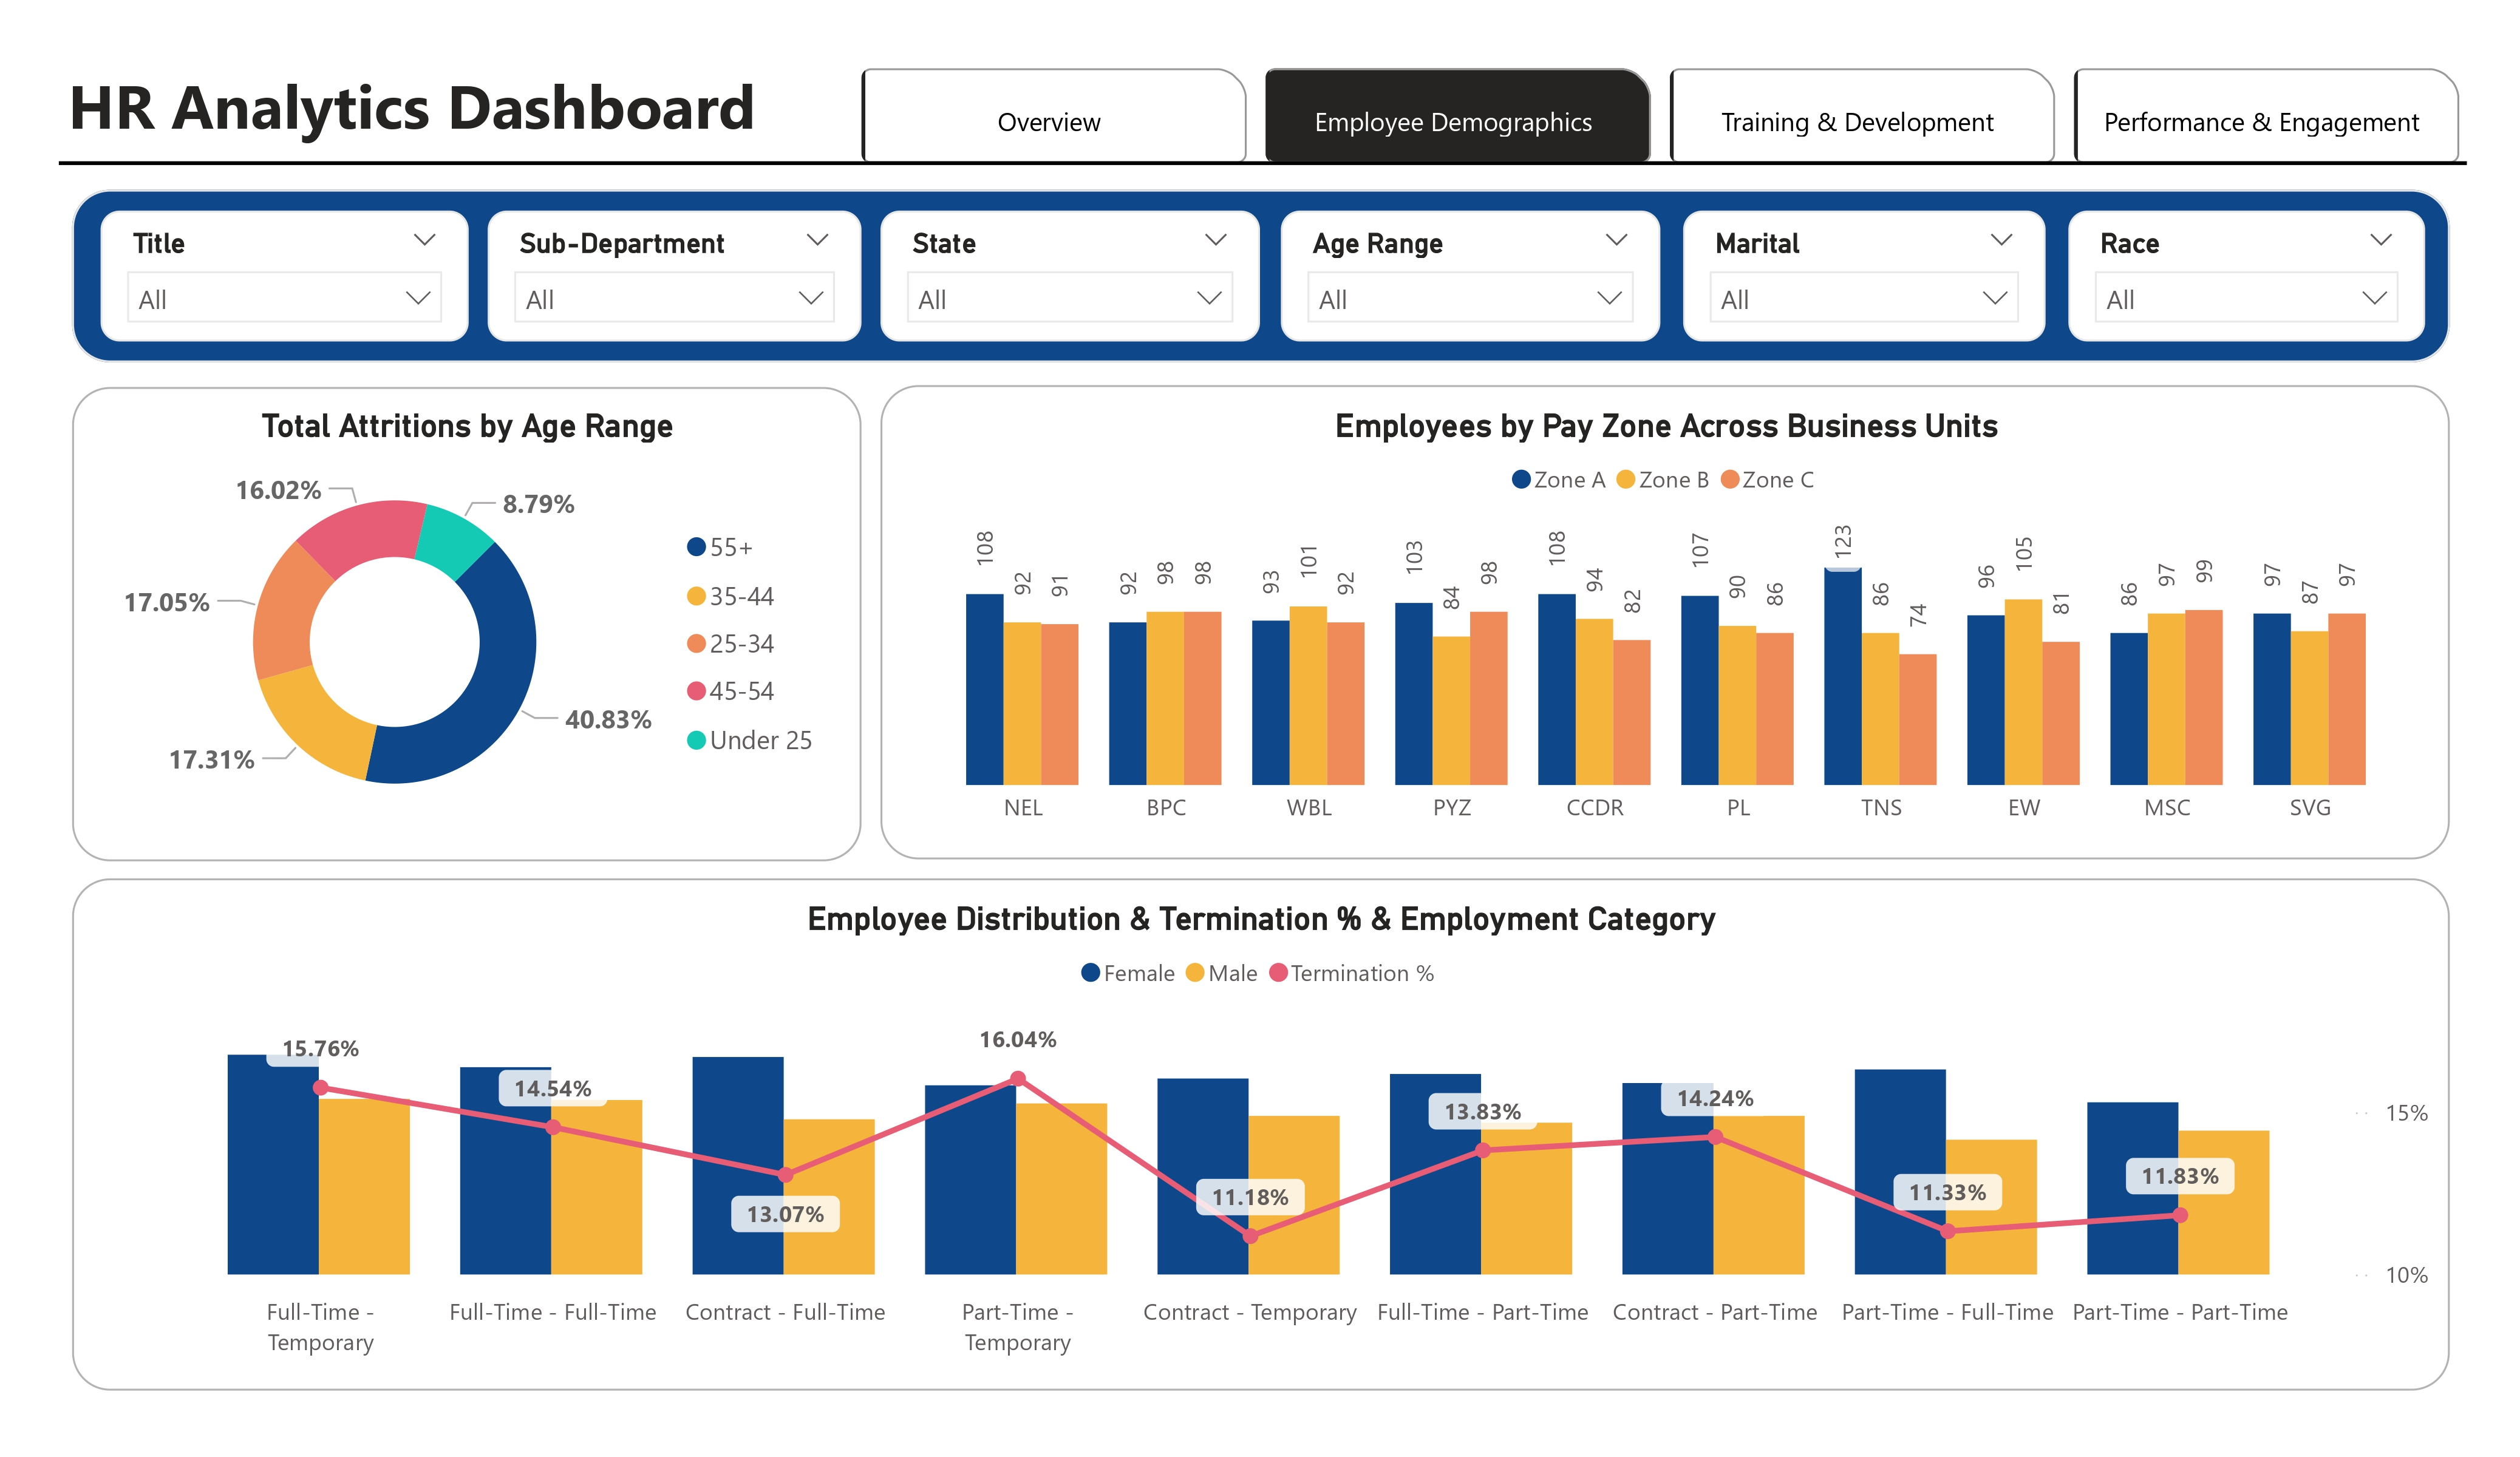

Layout of this report page (visuals, bound fields, positions):
{"tool":"powerbi","page":{"name":"Employee Demographics","canvas":[1280,720],"ordinal":1},"visuals":[{"type":"textbox","box":[7.1,4.3,407.1,58.6],"z":0},{"type":"pageNavigator","box":[430,12.1,845,50],"z":1000},{"type":"shape","box":[7.1,0,1268.6,124.3],"z":2000},{"type":"shape","box":[14.3,75.7,1252.9,91.4],"z":3000},{"type":"slicer","fields":{"Values":["Cleaned_HR_Data_Analysis (2).RaceDesc"]},"box":[1065.7,87.1,188.6,68.6],"z":4000},{"type":"slicer","fields":{"Values":["Cleaned_HR_Data_Analysis (2).Age Range"]},"box":[651.4,87.1,200,68.6],"z":5000},{"type":"slicer","fields":{"Values":["Cleaned_HR_Data_Analysis (2).MaritalDesc"]},"box":[862.9,87.1,191.4,68.6],"z":6000},{"type":"slicer","fields":{"Values":["Cleaned_HR_Data_Analysis (2).Division"]},"box":[232.9,87.1,197.1,68.6],"z":7000},{"type":"slicer","fields":{"Values":["Cleaned_HR_Data_Analysis (2).State"]},"box":[440,87.1,200,68.6],"z":8000},{"type":"slicer","fields":{"Values":["Cleaned_HR_Data_Analysis (2).Title"]},"box":[28.6,87.1,194.3,68.6],"z":9000},{"type":"shape","box":[14.3,180,415.7,250],"z":10000},{"type":"donutChart","title":"Total Attritions by Age Range","fields":{"Category":["Cleaned_HR_Data_Analysis (2).Age Range"],"Y":["CountNonNull(Cleaned_HR_Data_Analysis (2).Employee ID)"]},"box":[25.7,190,392.9,230],"z":11000},{"type":"shape","box":[14.3,438.6,1252.9,270],"z":12000},{"type":"lineClusteredColumnComboChart","title":"Employee Distribution & Termination % & Employment Category","fields":{"Category":["Cleaned_HR_Data_Analysis (2).Employment Category"],"Y":["CountNonNull(Cleaned_HR_Data_Analysis (2).Employee ID)"],"Series":["Cleaned_HR_Data_Analysis (2).GenderCode"],"Y2":["Cleaned_HR_Data_Analysis (2).Termination %"]},"box":[21.4,450,1240,248.6],"z":13000},{"type":"shape","box":[440,178.6,827.1,250],"z":14000},{"type":"lineClusteredColumnComboChart","title":"Employees by Pay Zone Across Business Units","fields":{"Category":["Cleaned_HR_Data_Analysis (2).BusinessUnit"],"Y":["CountNonNull(Cleaned_HR_Data_Analysis (2).Employee ID)"],"Series":["Cleaned_HR_Data_Analysis (2).PayZone"]},"box":[450,190,808.6,230],"z":15000}]}

Visuals, with their boxes on the page's 1280x720 design canvas (x1, y1, x2, y2). These are canvas units, not pixel positions in the 2520x1457 screenshot, which may show the page scaled, cropped or inside an application window:
textbox: rect(7, 4, 414, 63)
pageNavigator: rect(430, 12, 1275, 62)
shape: rect(7, 0, 1276, 124)
shape: rect(14, 76, 1267, 167)
slicer - Cleaned_HR_Data_Analysis (2).RaceDesc: rect(1066, 87, 1254, 156)
slicer - Cleaned_HR_Data_Analysis (2).Age Range: rect(651, 87, 851, 156)
slicer - Cleaned_HR_Data_Analysis (2).MaritalDesc: rect(863, 87, 1054, 156)
slicer - Cleaned_HR_Data_Analysis (2).Division: rect(233, 87, 430, 156)
slicer - Cleaned_HR_Data_Analysis (2).State: rect(440, 87, 640, 156)
slicer - Cleaned_HR_Data_Analysis (2).Title: rect(29, 87, 223, 156)
shape: rect(14, 180, 430, 430)
"Total Attritions by Age Range" donutChart: rect(26, 190, 419, 420)
shape: rect(14, 439, 1267, 709)
"Employee Distribution & Termination % & Employment Category" lineClusteredColumnComboChart: rect(21, 450, 1261, 699)
shape: rect(440, 179, 1267, 429)
"Employees by Pay Zone Across Business Units" lineClusteredColumnComboChart: rect(450, 190, 1259, 420)
